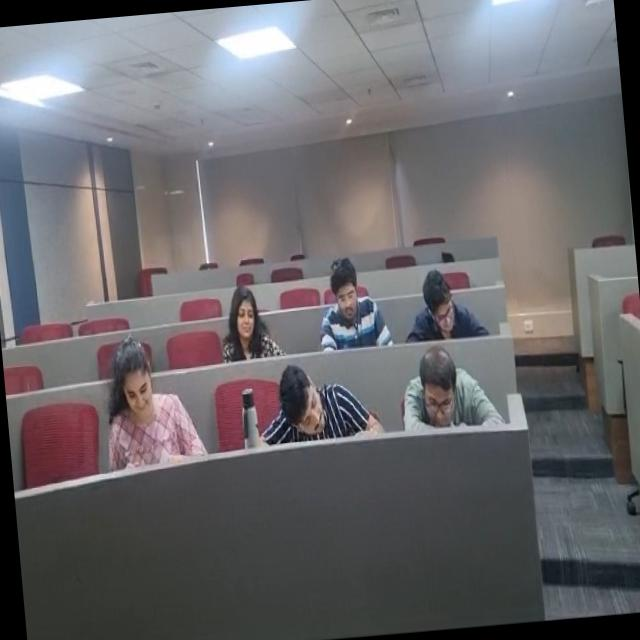cheating: (241, 357, 361, 451), (392, 344, 498, 444), (96, 326, 178, 436), (308, 242, 384, 351)
non-cheating: (208, 274, 280, 362), (395, 266, 479, 340)
